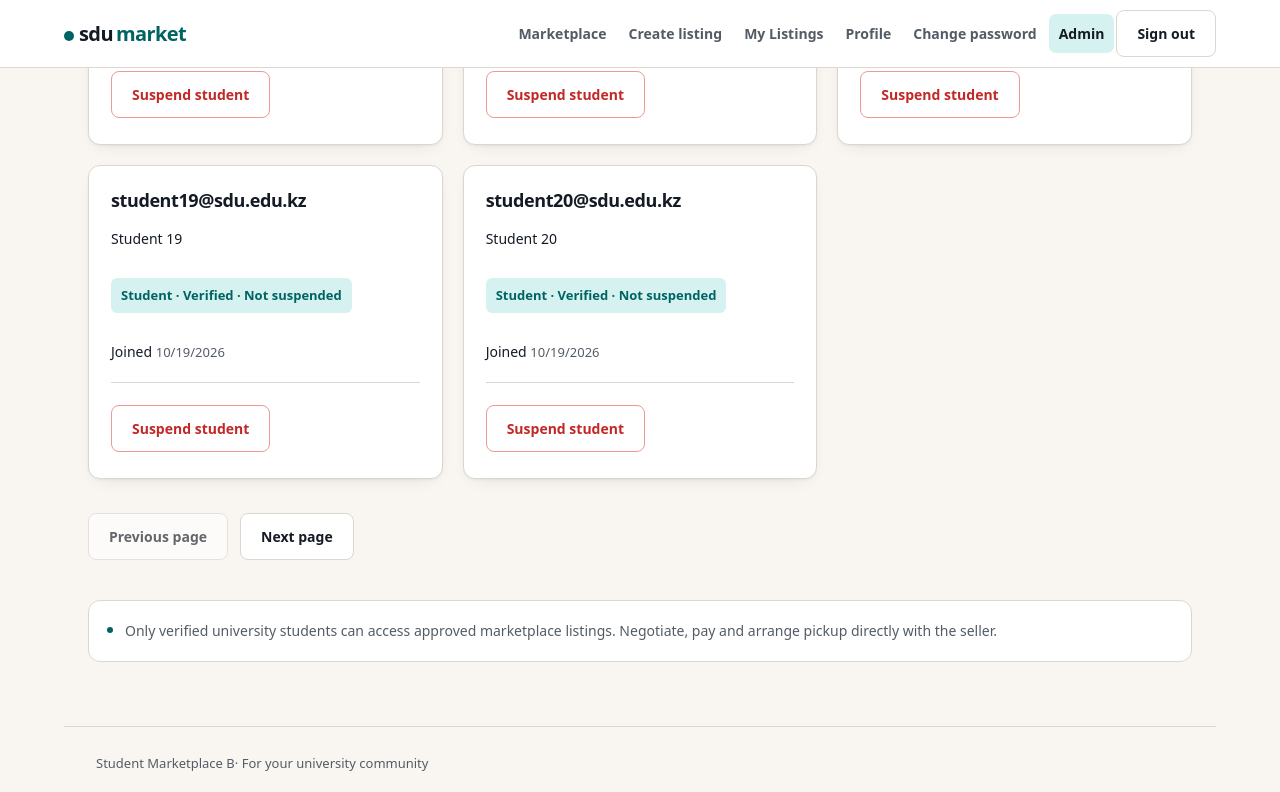
Test case: real user list uses protected bounded pagination and hides self/admin actions
(page scrolled)
Click the button "Next page" at (297, 536), box [240,513,354,560]
(page scrolled)
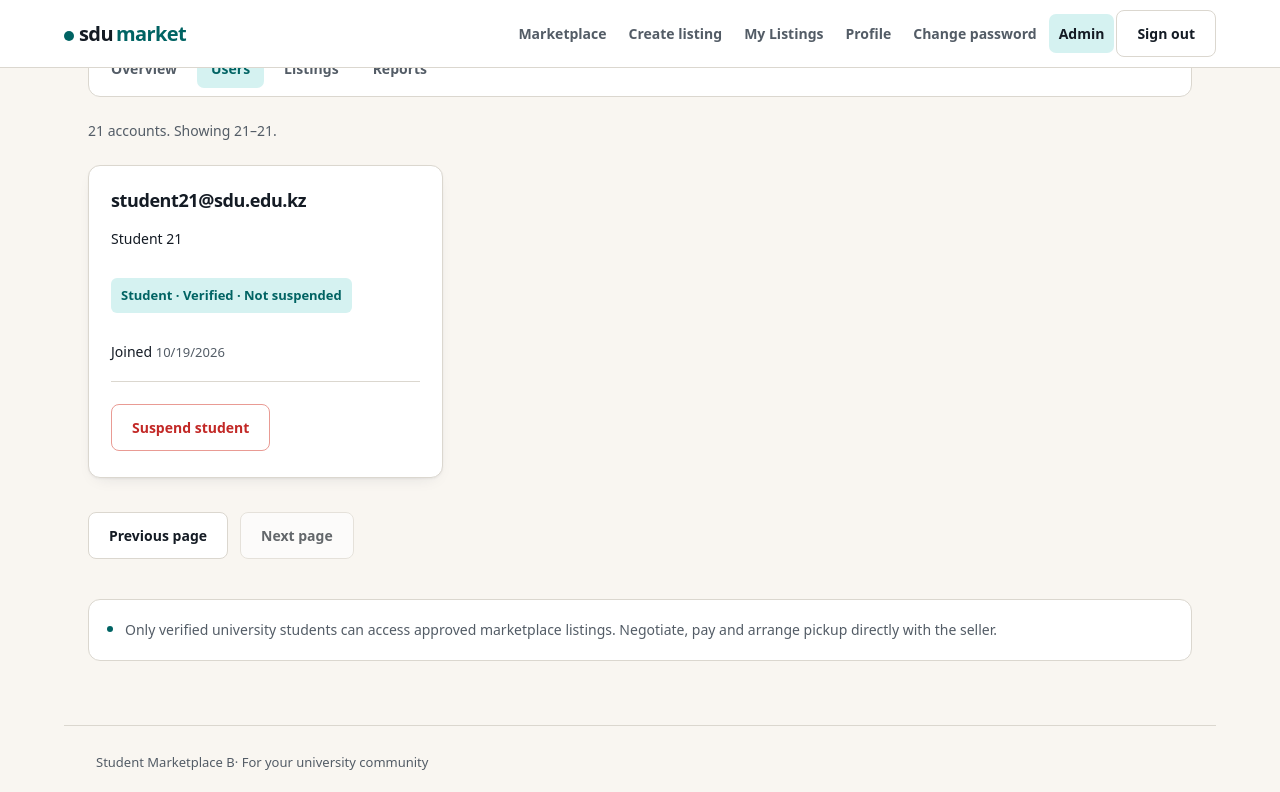
Result: the heading "student21@sdu.edu.kz" is shown at [111,188,306,212]
Result: the button "Next page" is disabled at [240,512,354,559]
Click the button "Previous page" at (158, 536), box [88,512,228,559]
(page scrolled)
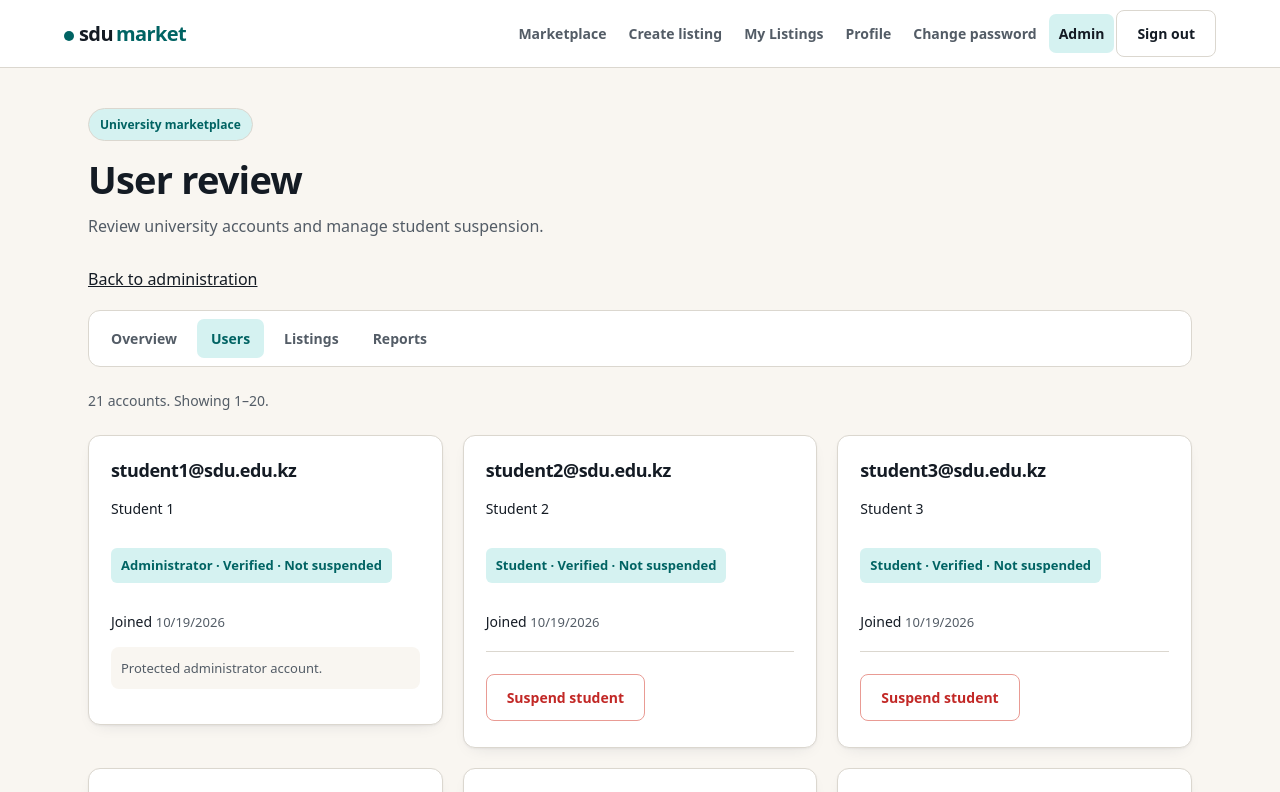
Result: the heading "student1@sdu.edu.kz" is shown at [111,458,296,482]
